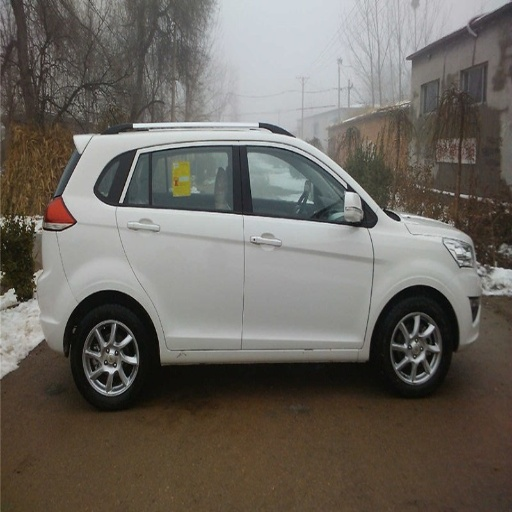back_right_door: (118, 140, 241, 350)
front_right_door: (242, 143, 373, 347)
